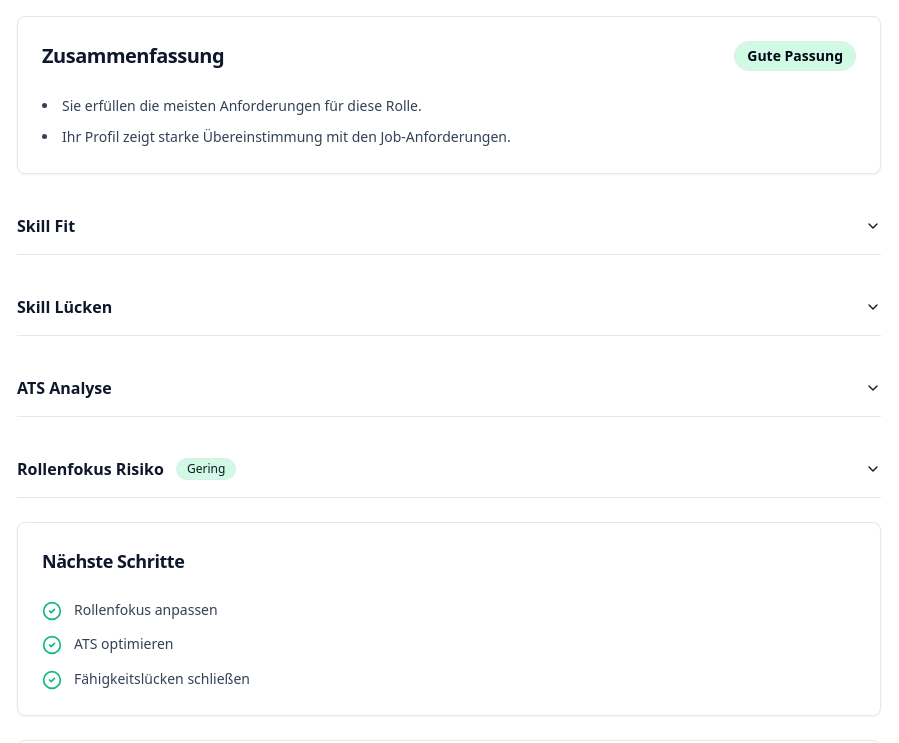
ResultsScreen › Role Focus Risk section › should display risk reasons
Step 1. Click the button "Rollenfokus Risiko Gering" → (90, 468), box [17, 440, 881, 496]
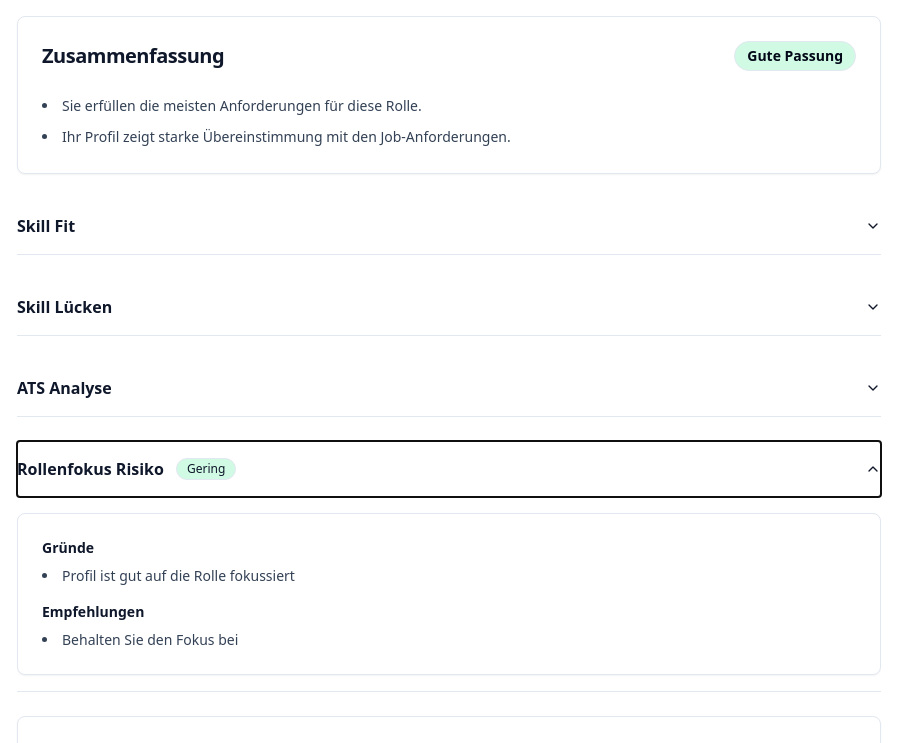
Expected: the heading "Gründe" is shown, [42, 538, 94, 556]
Expected: the list item "Profil ist gut auf die Rolle fokussiert" is shown, [62, 566, 295, 584]
